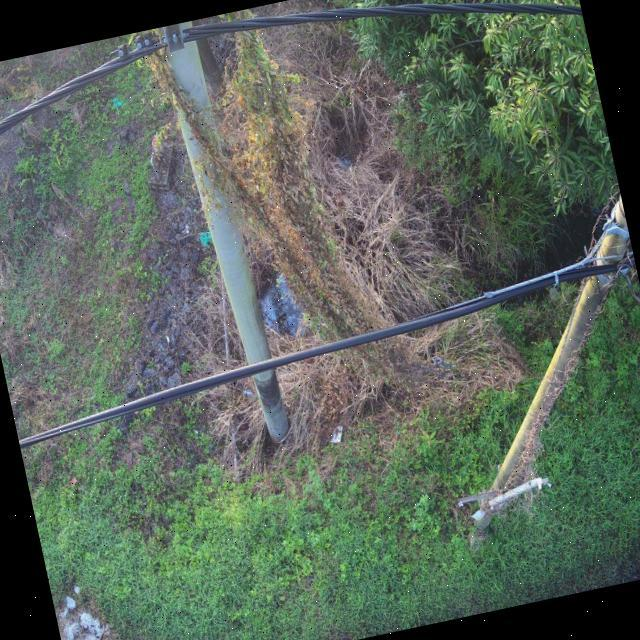critical vegetation: (134, 0, 443, 431)
